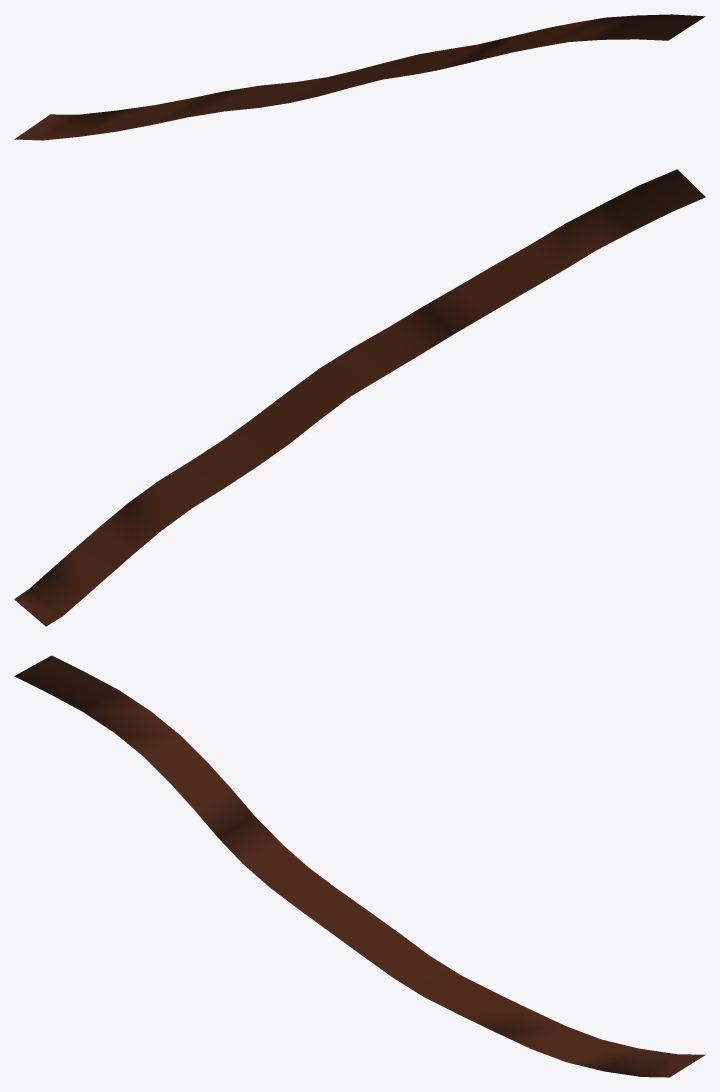
Rendered from field_spring_tree_outside_col4.fbx.
3 views of the same model, one above another, from view 1: azimuth 90°, elevation 25°; view 2: azimuth 150°, elevation 25°; view 3: azimuth 270°, elevation 25° (orthographic). The views are drawn at different scales.
Visible parts, largest first — view 1: field_spring_tree_outside_col4; view 2: field_spring_tree_outside_col4; view 3: field_spring_tree_outside_col4.
Part boxes in pixels (x1,y1,x2,y2): field_spring_tree_outside_col4: (14,14,705,140); field_spring_tree_outside_col4: (14,169,705,626); field_spring_tree_outside_col4: (14,655,705,1077).
Size of the model in its own units: 781 by 525 by 1312.
